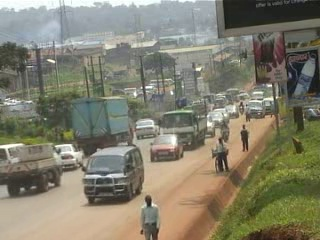Car: (148, 131, 187, 161), (52, 141, 87, 169), (133, 116, 162, 139), (205, 113, 216, 139), (210, 111, 226, 128), (214, 106, 228, 121), (223, 104, 238, 118)
Motorcycle: (218, 118, 229, 143), (238, 100, 246, 116)
